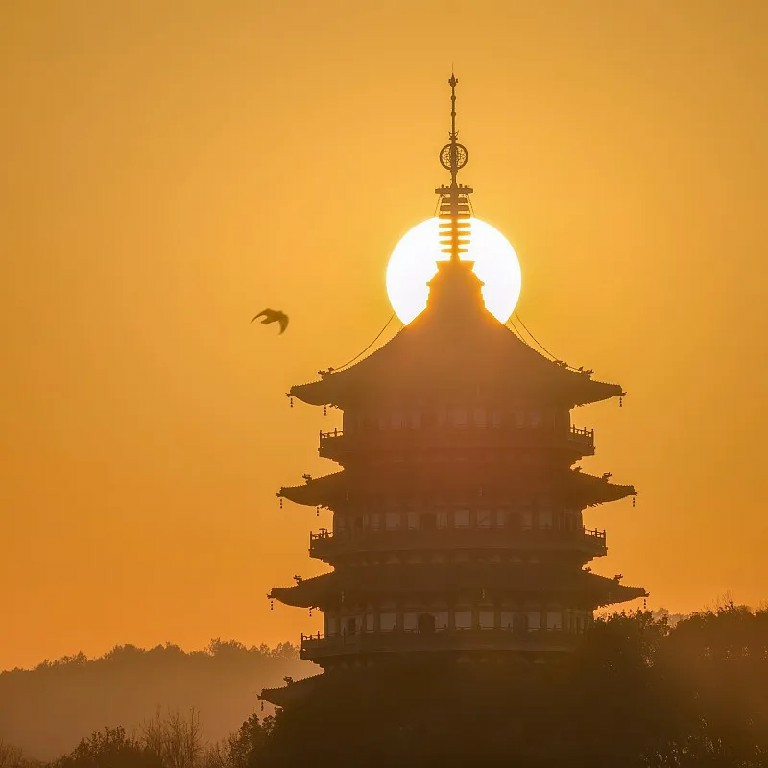Leifeng: (257, 68, 650, 725)
